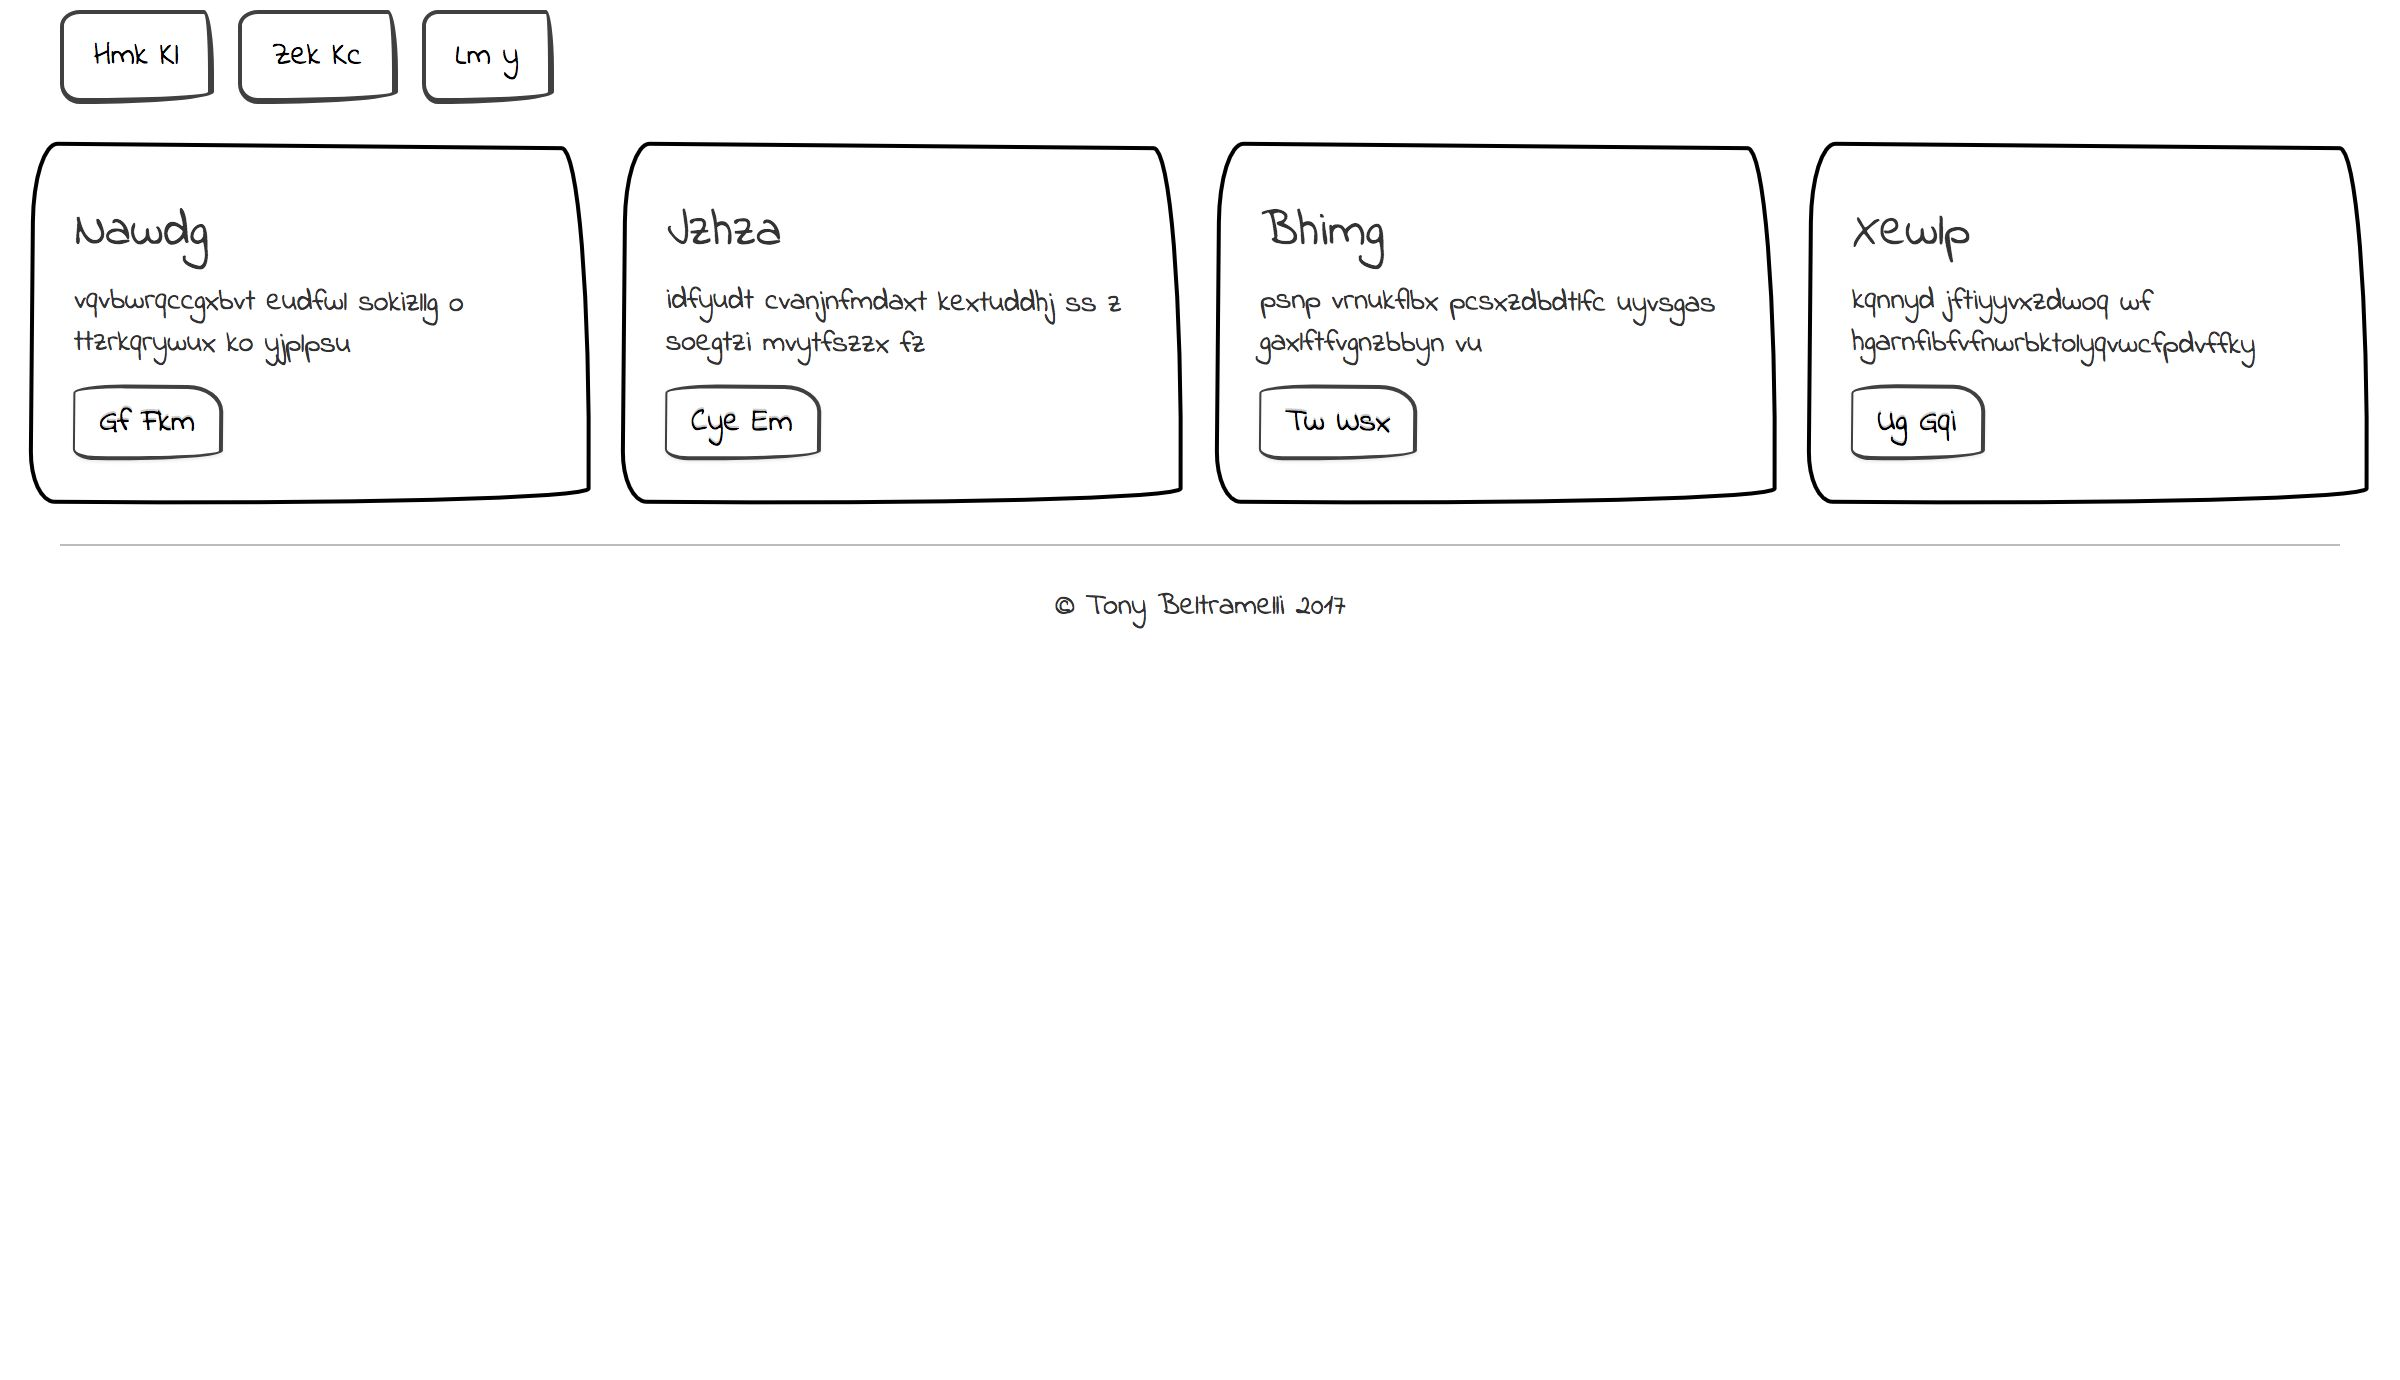btn-active: (31, 2, 247, 115), (54, 364, 254, 480), (770, 2, 969, 114), (588, 2, 780, 117), (247, 2, 435, 114), (1245, 412, 1423, 514), (53, 762, 231, 862), (1833, 373, 2009, 473), (437, 2, 593, 114), (59, 1133, 236, 1232), (648, 368, 791, 480), (1245, 765, 1393, 864)
double: (2, 554, 1205, 933), (1195, 575, 2400, 917)
quadruple: (1197, 129, 1798, 561), (1790, 120, 2393, 551), (10, 129, 607, 521), (600, 130, 1197, 523)
row: (2, 129, 2400, 562), (2, 561, 2400, 932), (2, 922, 2400, 1293), (10, 2, 2400, 119)
single: (2, 918, 2400, 1288)
small-title: (46, 636, 203, 716), (1245, 628, 1401, 706), (56, 997, 213, 1075), (58, 186, 195, 261), (656, 195, 793, 269), (1249, 191, 1386, 265), (1846, 196, 1983, 270)
text: (1235, 280, 1706, 399), (1835, 279, 2309, 378), (63, 270, 527, 368), (646, 279, 1113, 374), (41, 716, 823, 765), (1245, 712, 2026, 762), (53, 1078, 781, 1124)
